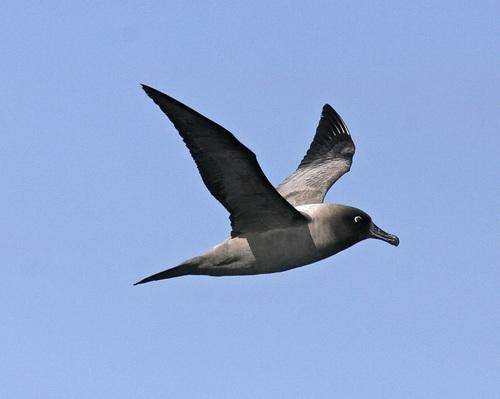bird: (126, 80, 400, 289)
